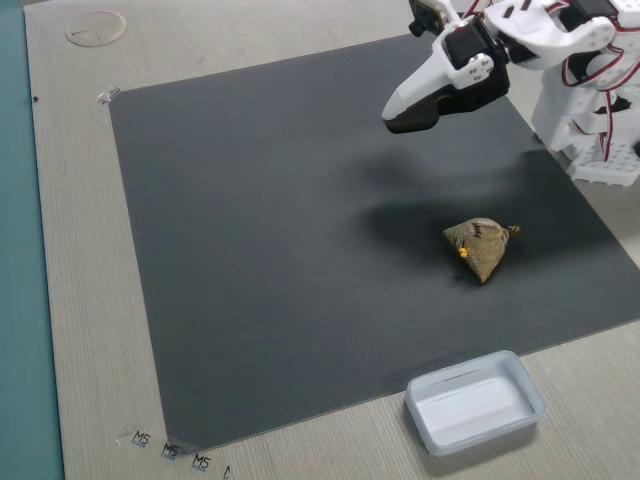gripper: (374, 19, 524, 134)
